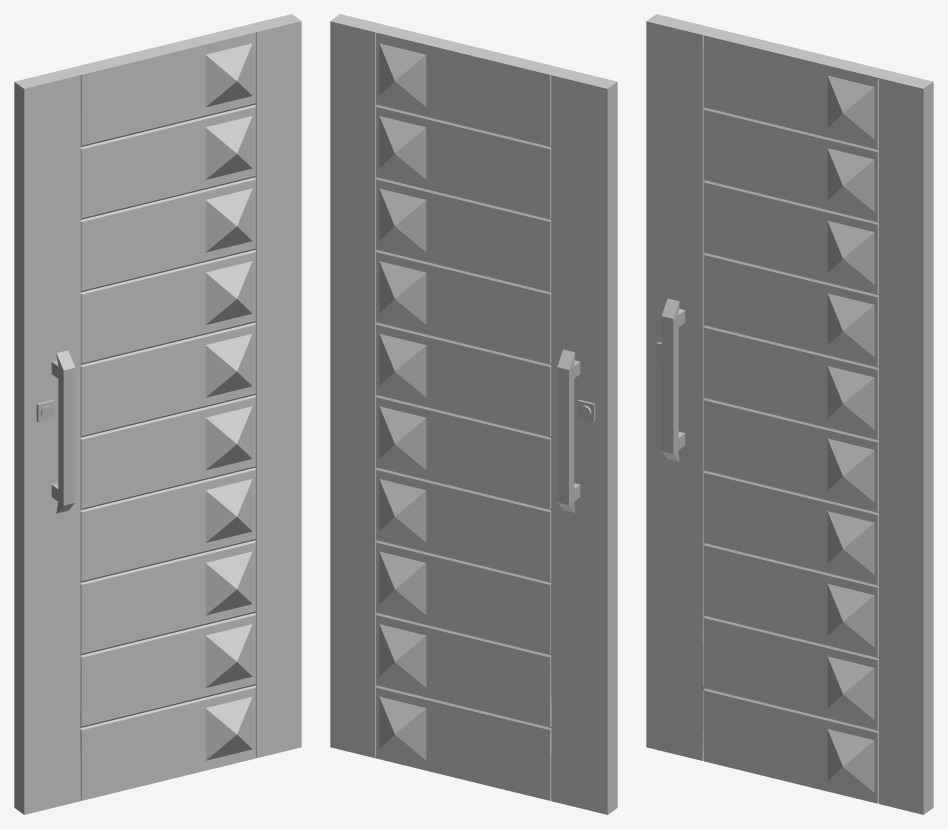
Rendered from Door.fbx.
3 renders of one model, left to right at view 1: azimuth 30°, elevation 25°; view 2: azimuth 150°, elevation 25°; view 3: azimuth 330°, elevation 25°, orthographic.
Parts seen in each view (by area): view 1: Cube.072; view 2: Cube.072; view 3: Cube.072.
Boxes of the visible parts, x1,y1,x2,y2 form: Cube.072: (14, 14, 301, 814); Cube.072: (330, 14, 617, 814); Cube.072: (646, 14, 933, 814).
Size of the model in its own units: 80 by 200 by 16.67.
